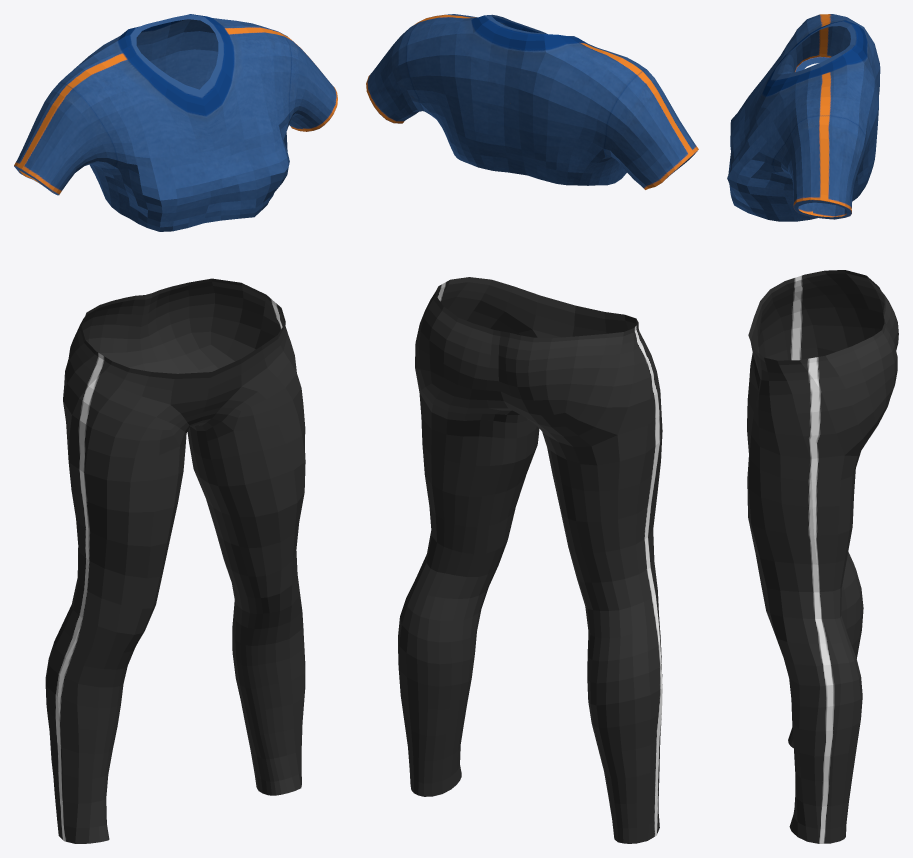
File: garment.glb
The picture shows the model from 3 angles, left to right: view 1: azimuth 30°, elevation 25°; view 2: azimuth 150°, elevation 25°; view 3: azimuth 270°, elevation 25°; orthographic projection. The views are drawn at different scales.
Parts seen in each view (by area): view 1: garment; view 2: garment; view 3: garment.
Boxes of the visible parts, bbox=[...] form: garment: bbox=[14, 14, 337, 843]; garment: bbox=[366, 14, 698, 843]; garment: bbox=[727, 14, 898, 843].
Size of the model in its own units: 5.41 by 12.85 by 2.65.
Materials: 1 (1 with a texture image).
